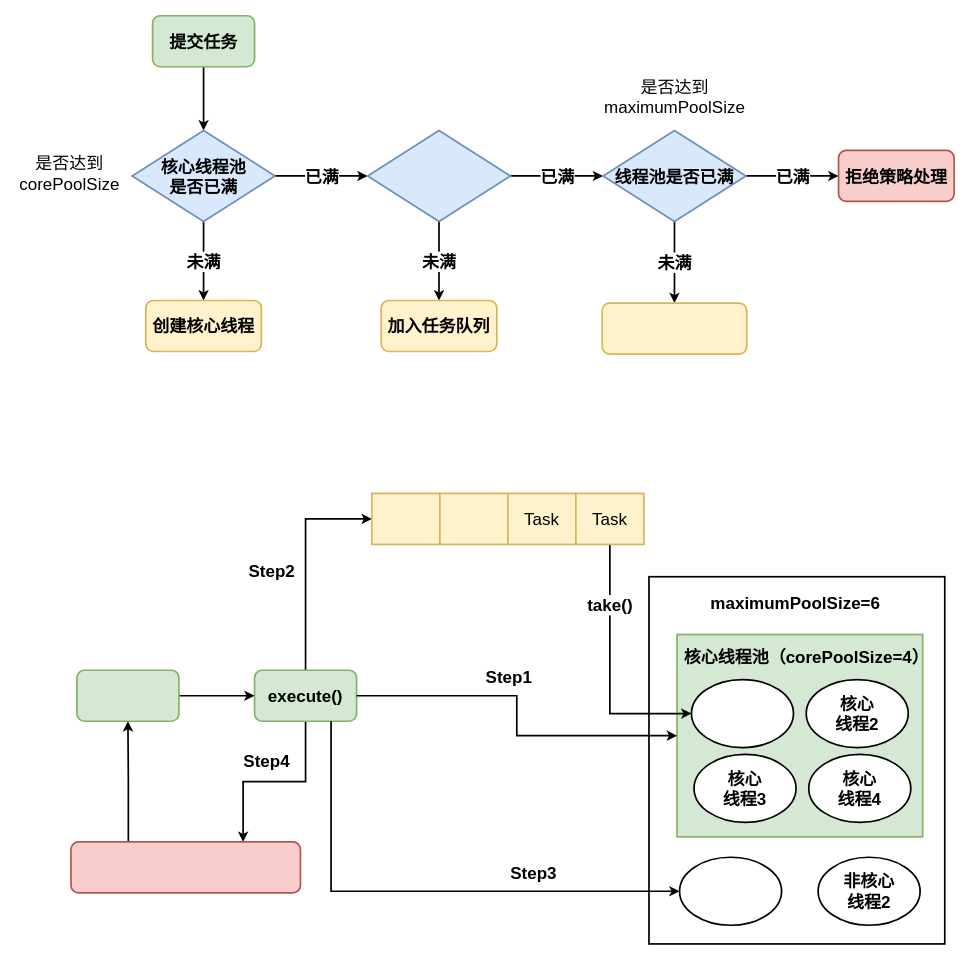
The diagram is 969 pixels wide and 959 high, and some of its shapes have lost their labels. The centre of each missing label's shape, as x and y in pixels:
"RejectedExceptionHandler" belongs at (185,867).
"主线程" belongs at (127,695).
"任务阻塞队列 是否已满" belongs at (438,175).
"创建非核心线程" belongs at (674,328).
"核心 线程1" belongs at (742,713).
"非核心 线程1" belongs at (730,891).
